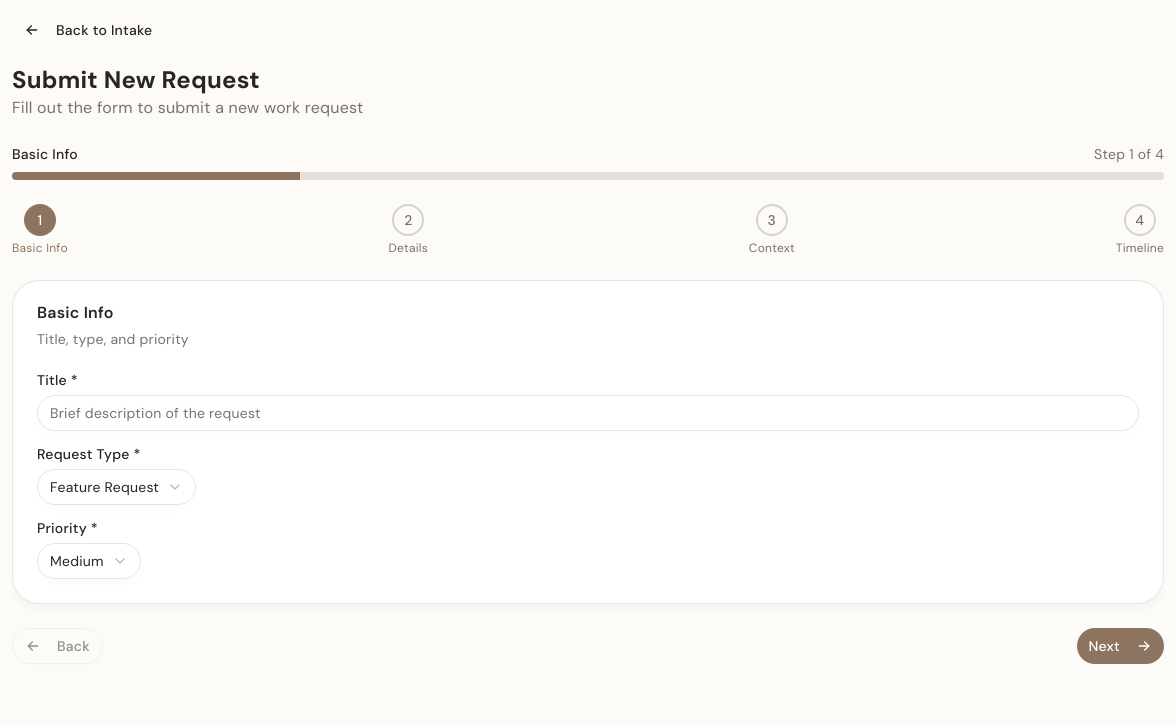
Scenario: RequestFormClient › Progress Display › should update progress when moving to step 2
The image size is (1176, 725).
In the field labelled "Title *": {"x": 588, "y": 413} [37,395,1139,431], type "Test Request"
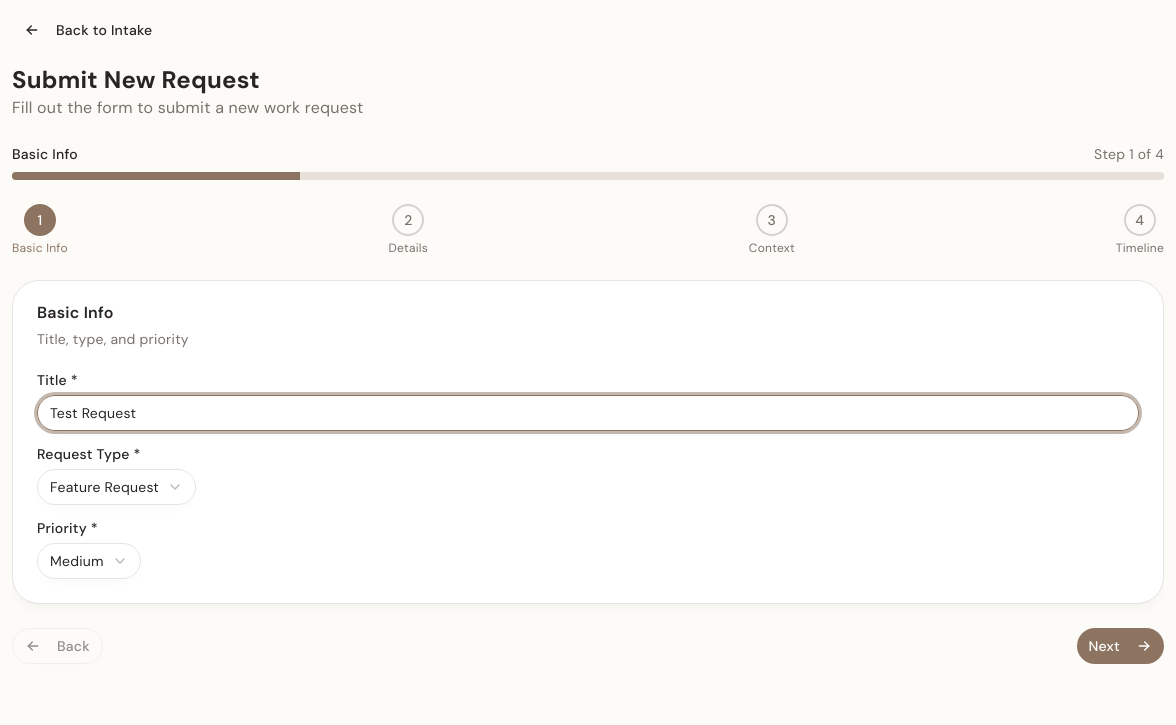
Click the button "Next": {"x": 1120, "y": 646} [1076,628,1164,664]
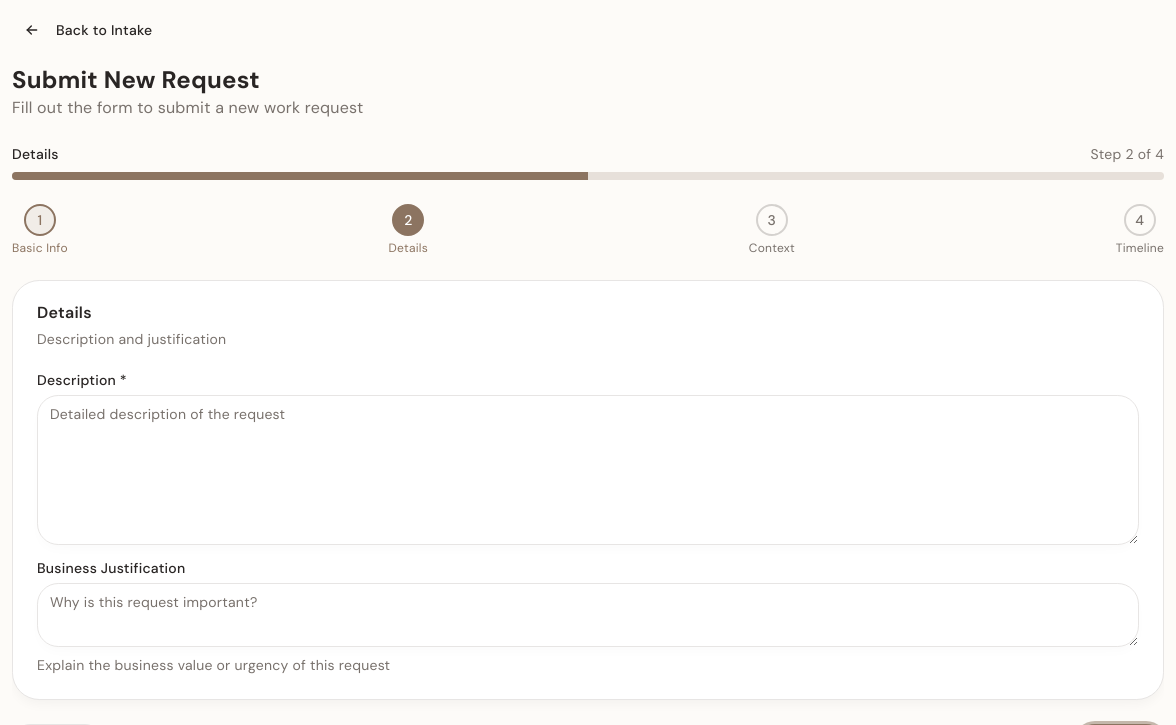
Now the text "Step 2 of 4" is shown, box [1090,144,1164,164]
